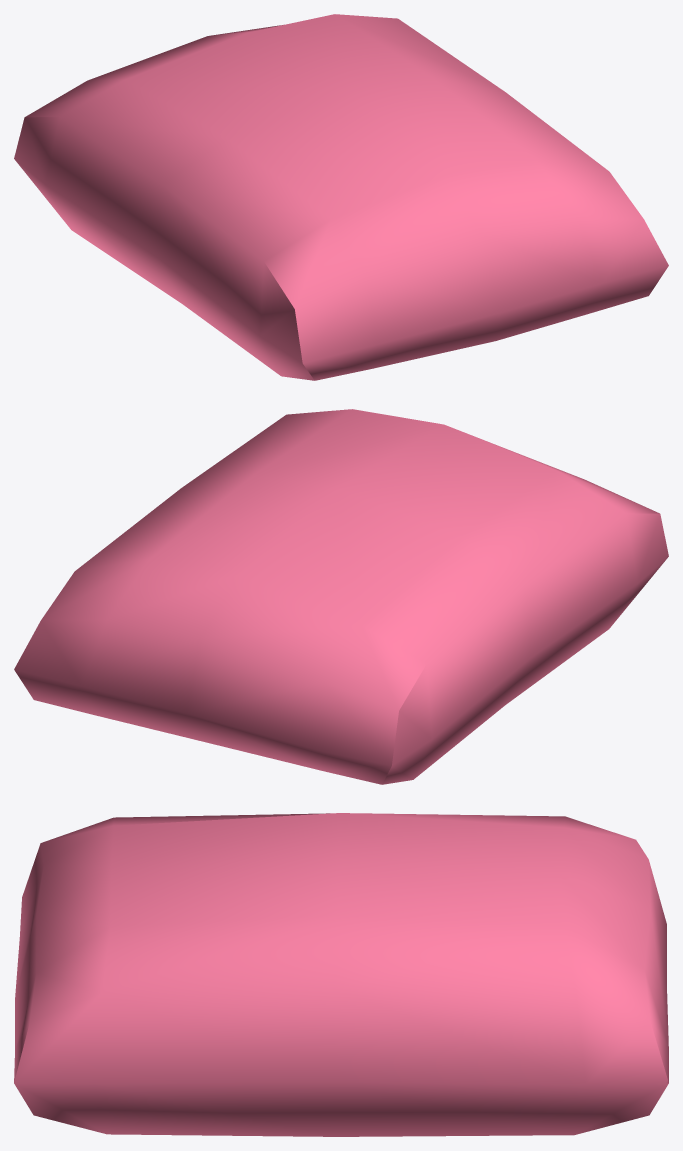
The model's file is Bed_Pillow.fbx.
3 renders of one model, top to bottom at view 1: azimuth 30°, elevation 25°; view 2: azimuth 150°, elevation 25°; view 3: azimuth 270°, elevation 25°, orthographic. The views are drawn at different scales.
Parts seen in each view (by area): view 1: Bed_Pillow; view 2: Bed_Pillow; view 3: Bed_Pillow.
Part boxes in pixels (left/top/right/bottom): Bed_Pillow: left=14, top=14, right=668, bottom=380; Bed_Pillow: left=14, top=409, right=668, bottom=784; Bed_Pillow: left=14, top=813, right=668, bottom=1136.
Size of the model in its own units: 44.1 by 19.96 by 58.93.
